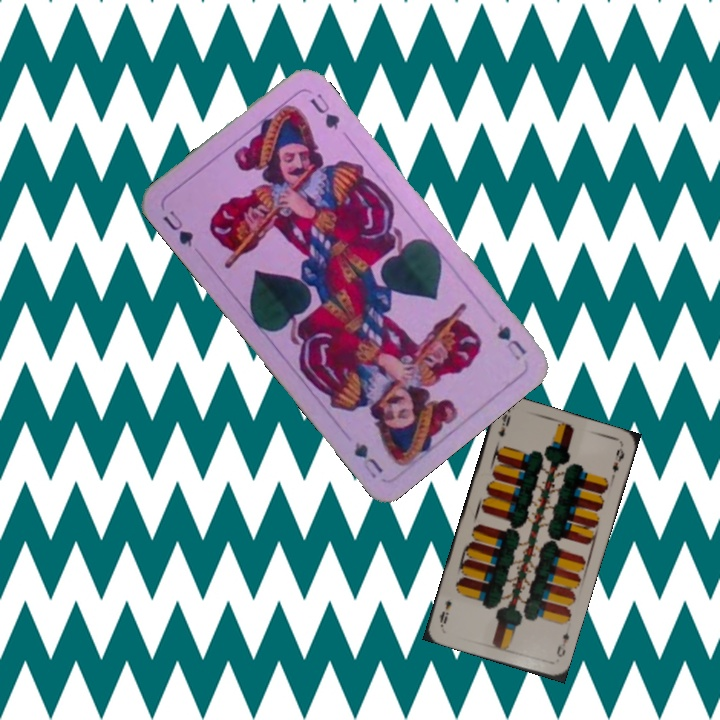E9: (552, 628, 572, 660), (494, 410, 513, 439)
GU: (159, 206, 196, 250), (492, 320, 529, 364)
